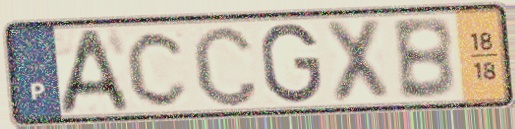A: (57, 26, 134, 117)
B: (388, 14, 459, 102)
C: (189, 22, 262, 110), (124, 27, 192, 109)
G: (257, 20, 326, 106)
X: (321, 15, 393, 105)
